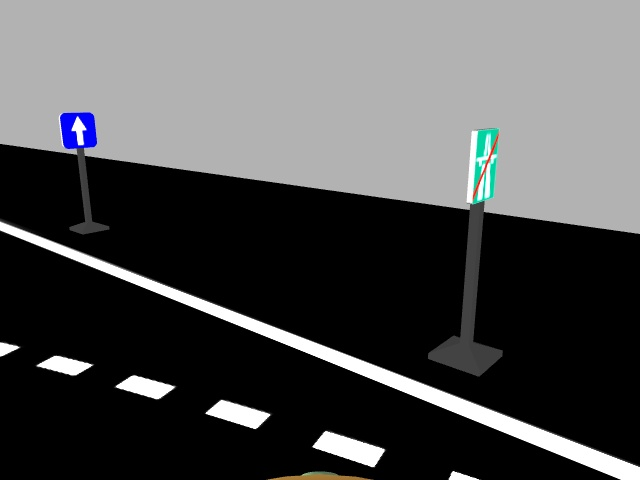HighwayExit: (466, 127, 503, 205)
OneWay: (54, 109, 99, 149)
